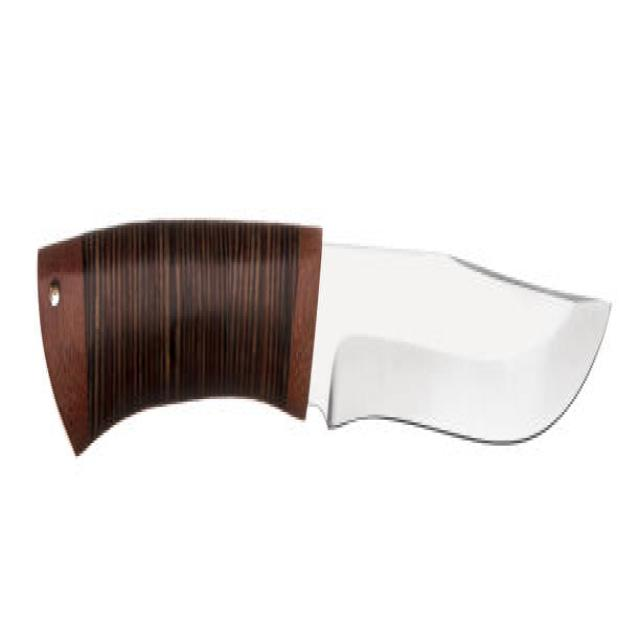knife: (38, 222, 612, 458)
